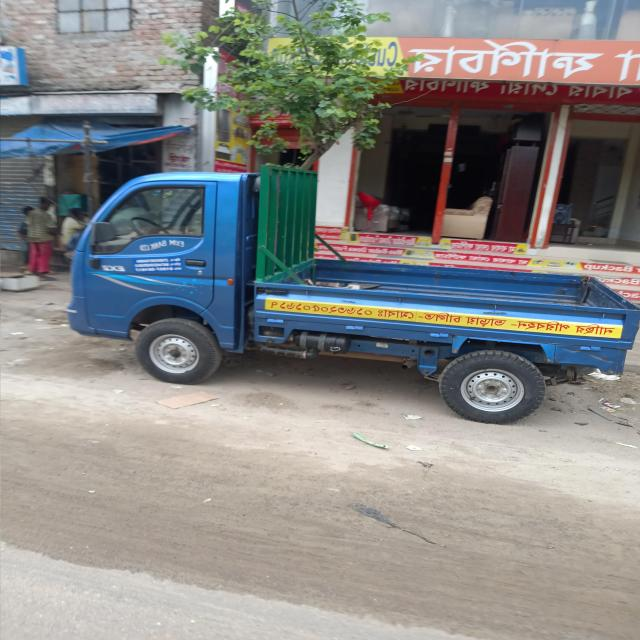truck: (67, 165, 640, 424)
